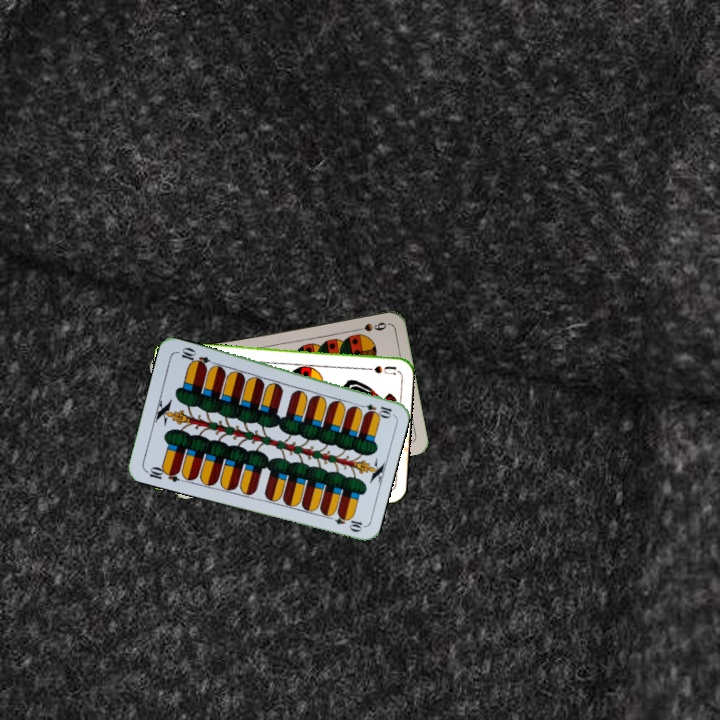E10: (141, 462, 182, 485), (354, 400, 394, 419)
S9: (349, 318, 389, 334)
SU: (357, 362, 398, 377)
